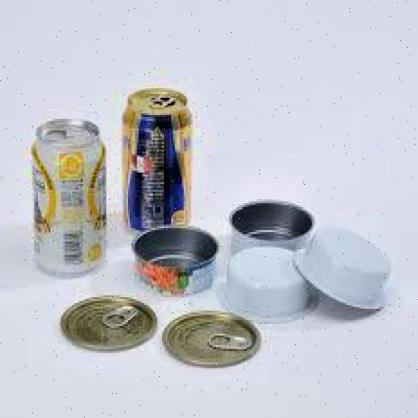can: (33, 118, 108, 277), (122, 87, 194, 239)
